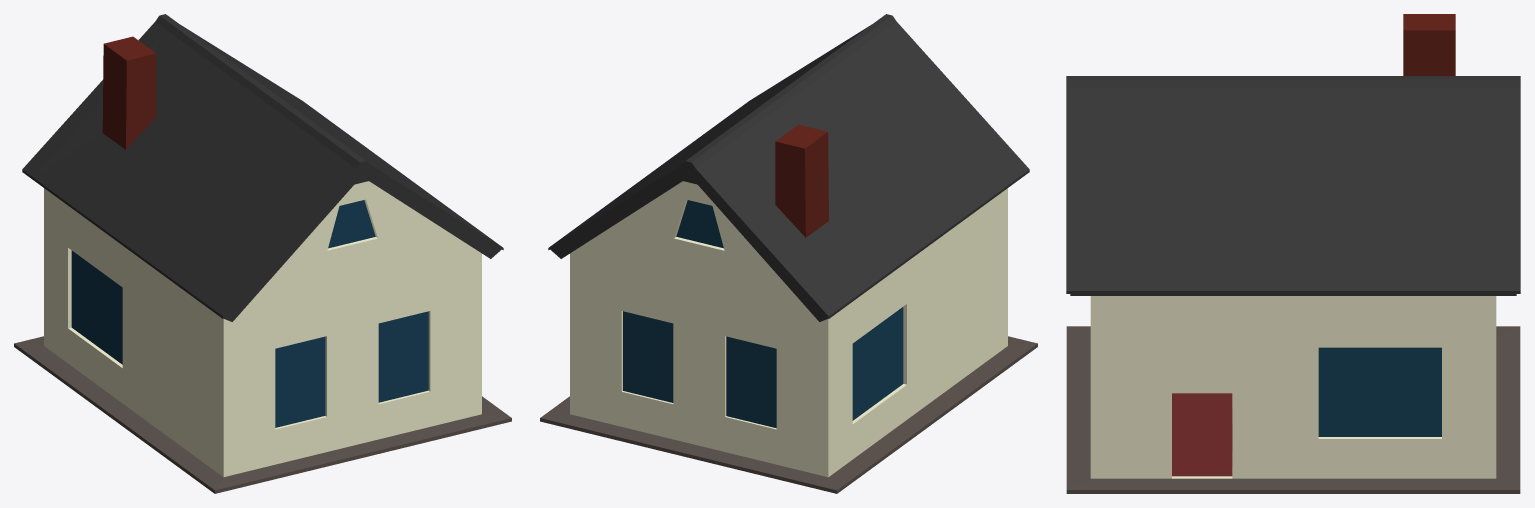
File: family.fbx
3 renders of one model, left to right at view 1: azimuth 30°, elevation 25°; view 2: azimuth 150°, elevation 25°; view 3: azimuth 270°, elevation 25°, orthographic. The views are drawn at different scales.
Parts seen in each view (by area): view 1: Cube; view 2: Cube; view 3: Cube.
Part boxes in pixels (left/top/right/bottom): Cube: left=14, top=14, right=511, bottom=493; Cube: left=540, top=14, right=1037, bottom=493; Cube: left=1066, top=14, right=1520, bottom=493.
Size of the model in its own units: 899 by 895 by 1054.
